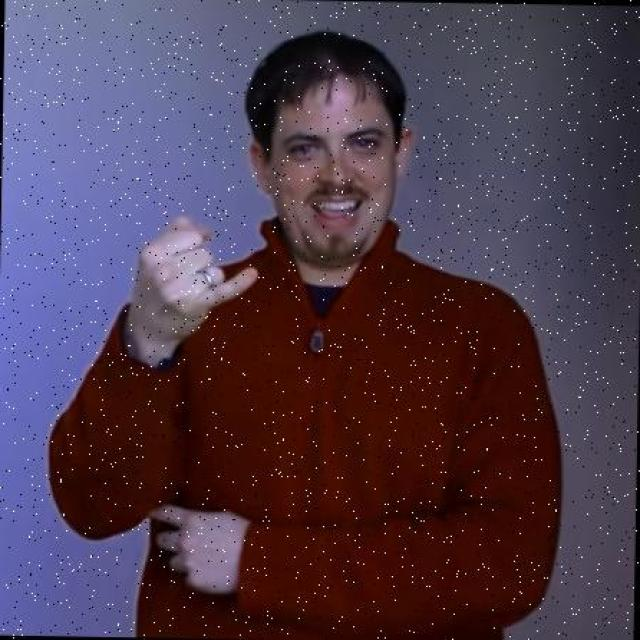I: (127, 210, 266, 344)
